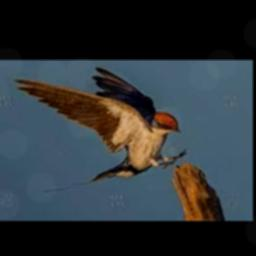Swallow: (10, 67, 187, 192)
